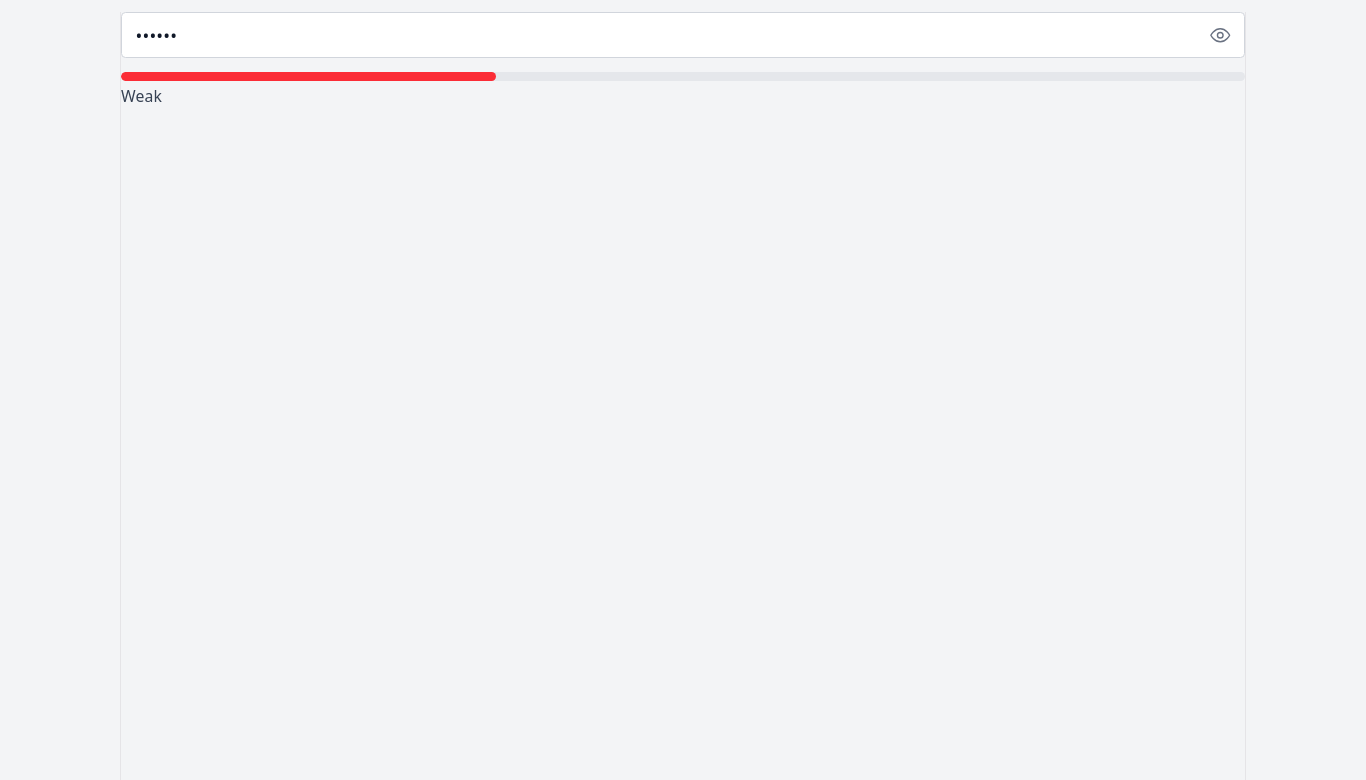
PasswordInput › show/hide toggle › hides the text again when the toggle is clicked twice
What coordinates should you click on to do the following:
click the button named "show"
I would click on:
 (1220, 35)
Its box is [1196,12,1245,58].
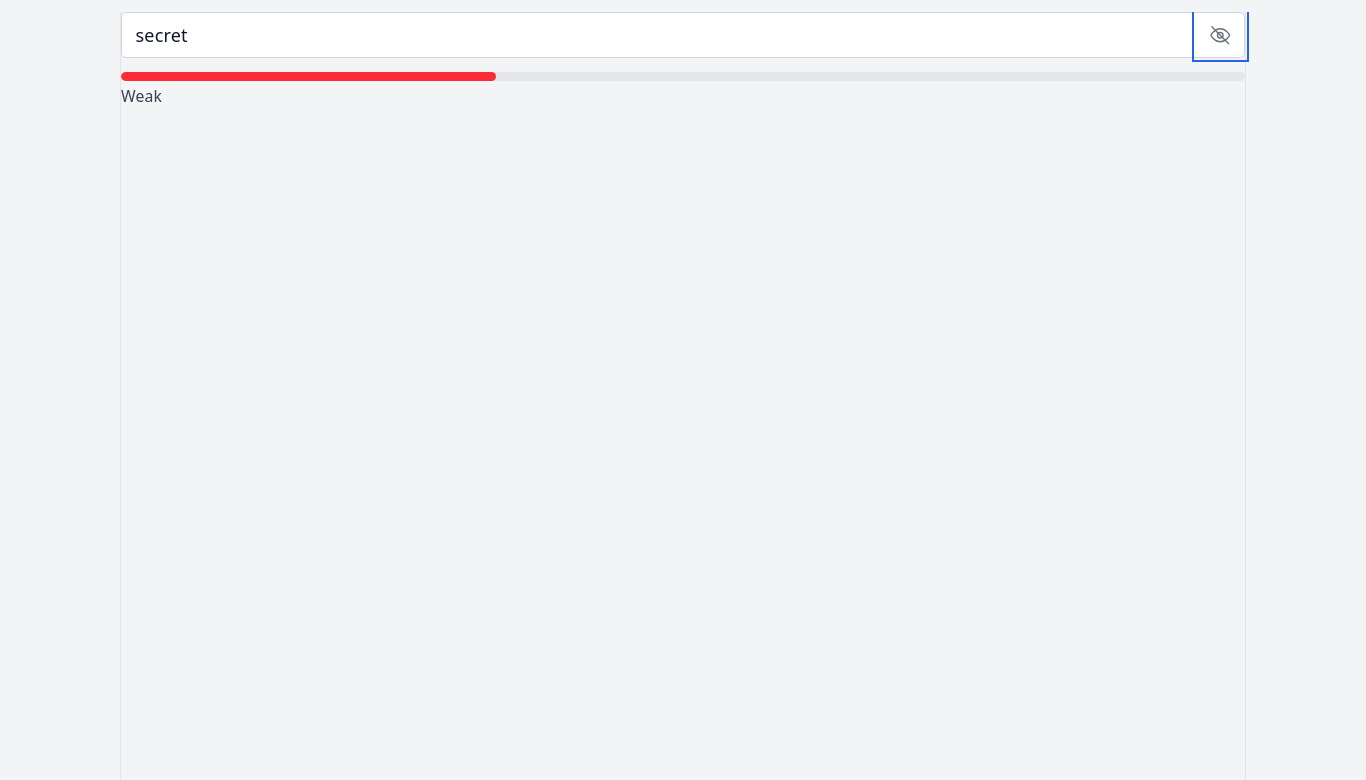
What coordinates should you click on to do the following:
click the button named "hide"
I would click on:
 (1220, 35)
Its box is [1196,12,1245,58].
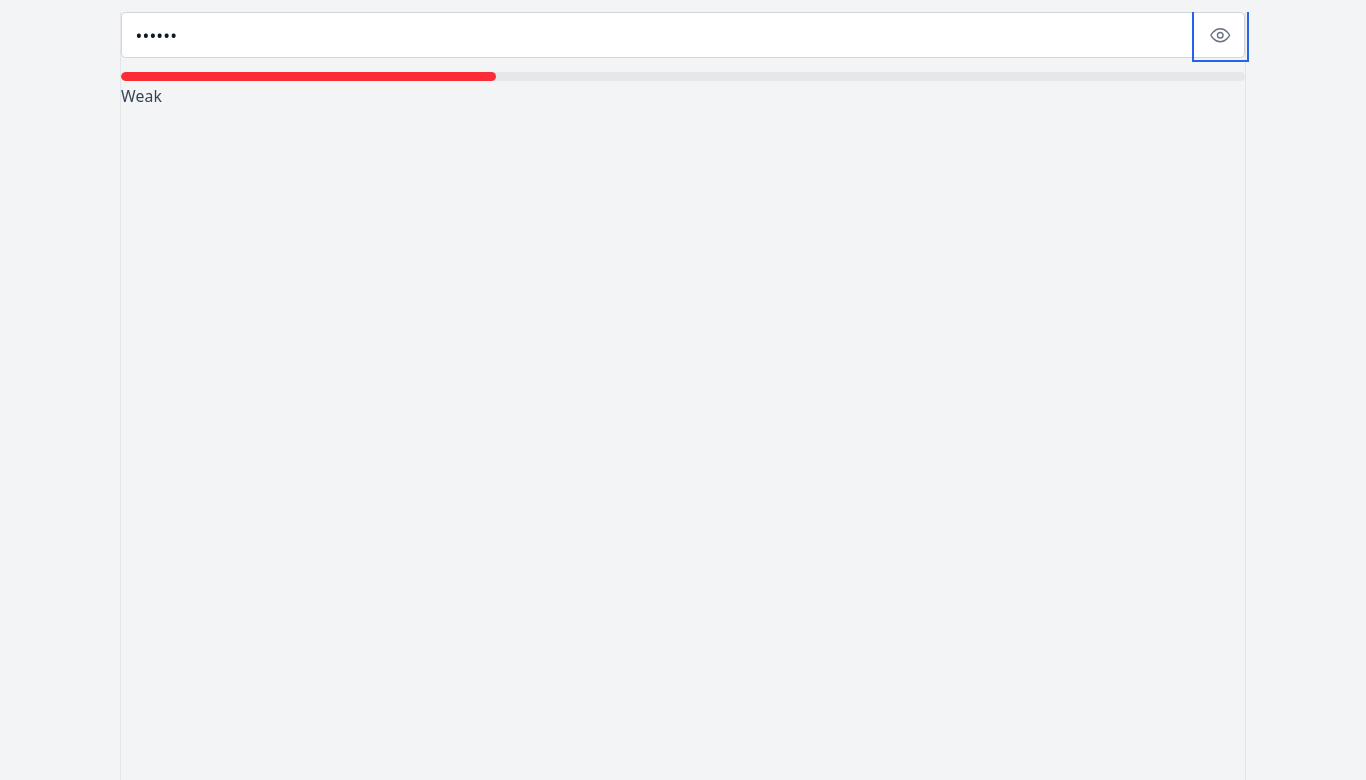
Check: the password field named "Password" hides its text, box [121,12,1245,58]
Check: the button named "show" is shown, box [1196,12,1245,58]
